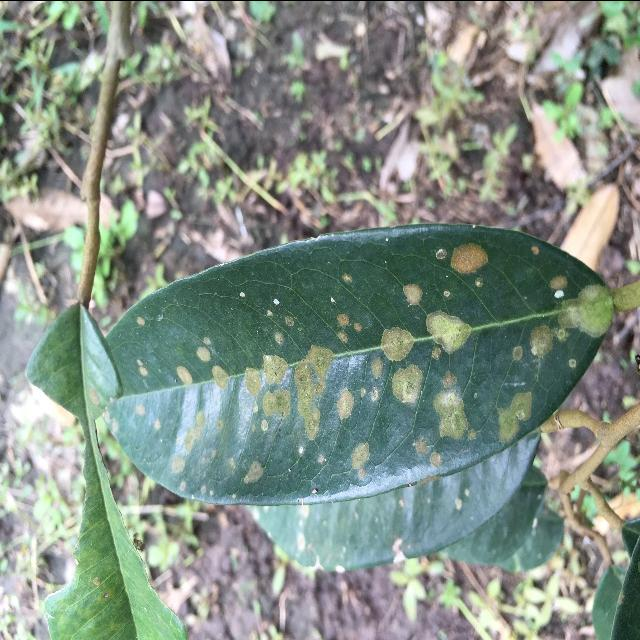Algal Leaf Spot: (81, 210, 621, 513)
